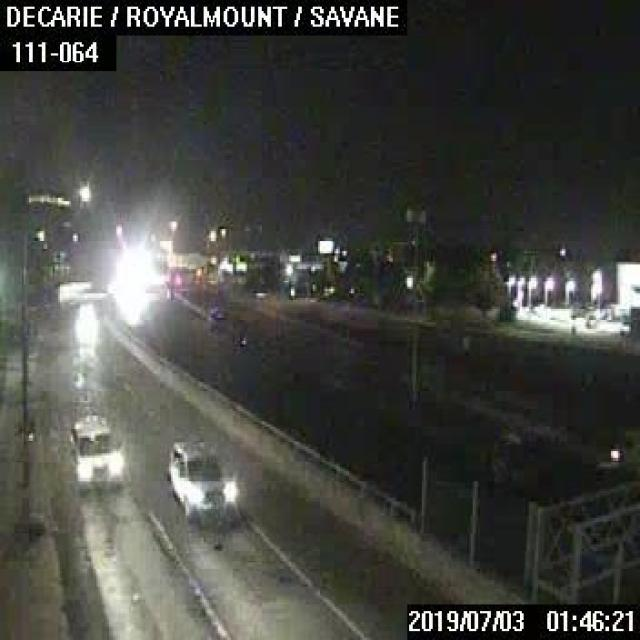vehicle: (168, 436, 238, 518), (69, 414, 125, 484)
